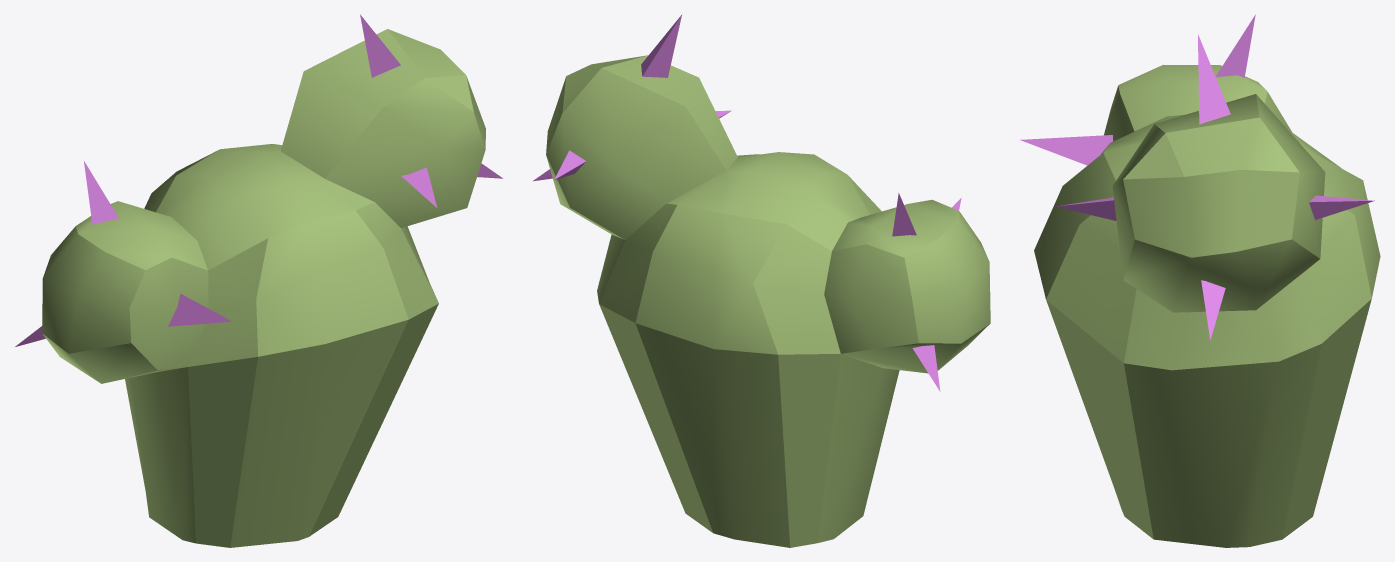
Rendered from Cactus1.fbx.
3 views of the same model, side by side, from view 1: azimuth 30°, elevation 25°; view 2: azimuth 150°, elevation 25°; view 3: azimuth 270°, elevation 25° (orthographic). The views are drawn at different scales.
Visible parts, largest first — view 1: pCone8; view 2: pCone8; view 3: pCone8.
Boxes of the visible parts, box(x1,y1,x2,y2) form: pCone8: box(15, 14, 502, 547); pCone8: box(533, 14, 990, 547); pCone8: box(1020, 14, 1380, 547).
Bounding box in the file's own units: 3.2 × 1.99 × 3.21.
